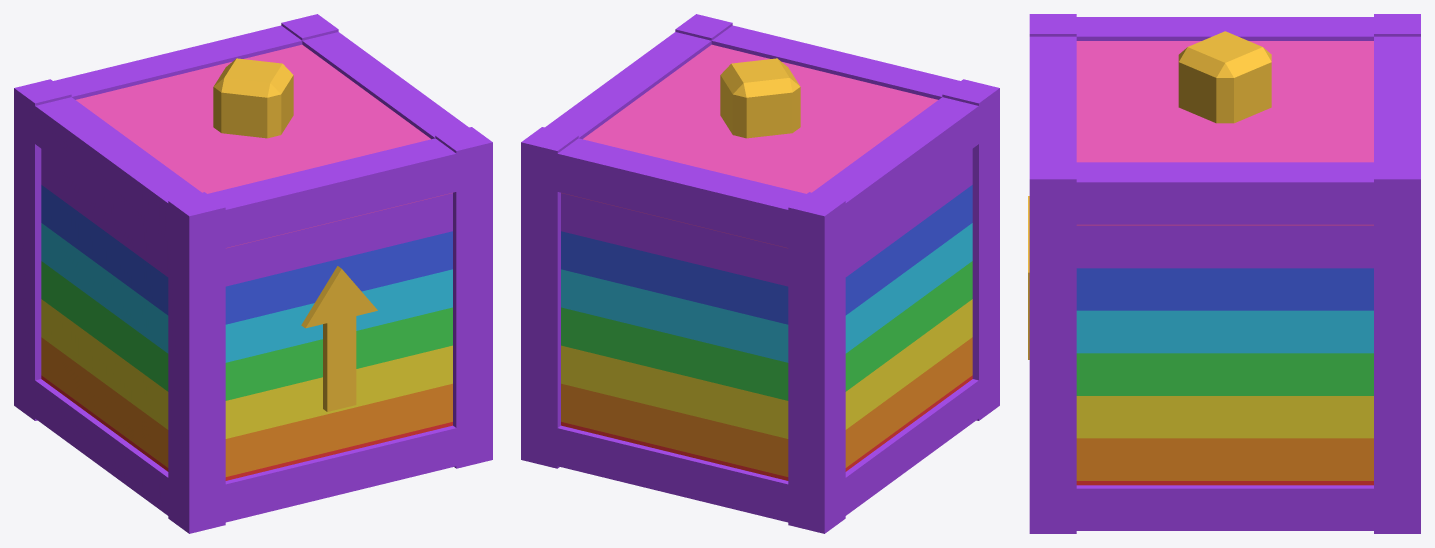
Rendered from RainbowLootCrate.fbx.
The picture shows the model from 3 angles, left to right: view 1: azimuth 30°, elevation 25°; view 2: azimuth 150°, elevation 25°; view 3: azimuth 270°, elevation 25°; orthographic projection. The views are drawn at different scales.
Parts seen in each view (by area): view 1: RainbowLootCrate; view 2: RainbowLootCrate; view 3: RainbowLootCrate.
Boxes of the visible parts, bbox=[...] form: RainbowLootCrate: bbox=[14, 14, 492, 533]; RainbowLootCrate: bbox=[521, 14, 999, 533]; RainbowLootCrate: bbox=[1028, 14, 1420, 533].
Size of the model in its own units: 2.5 by 2.85 by 2.51.
Materials: 1 (1 with a texture image).
